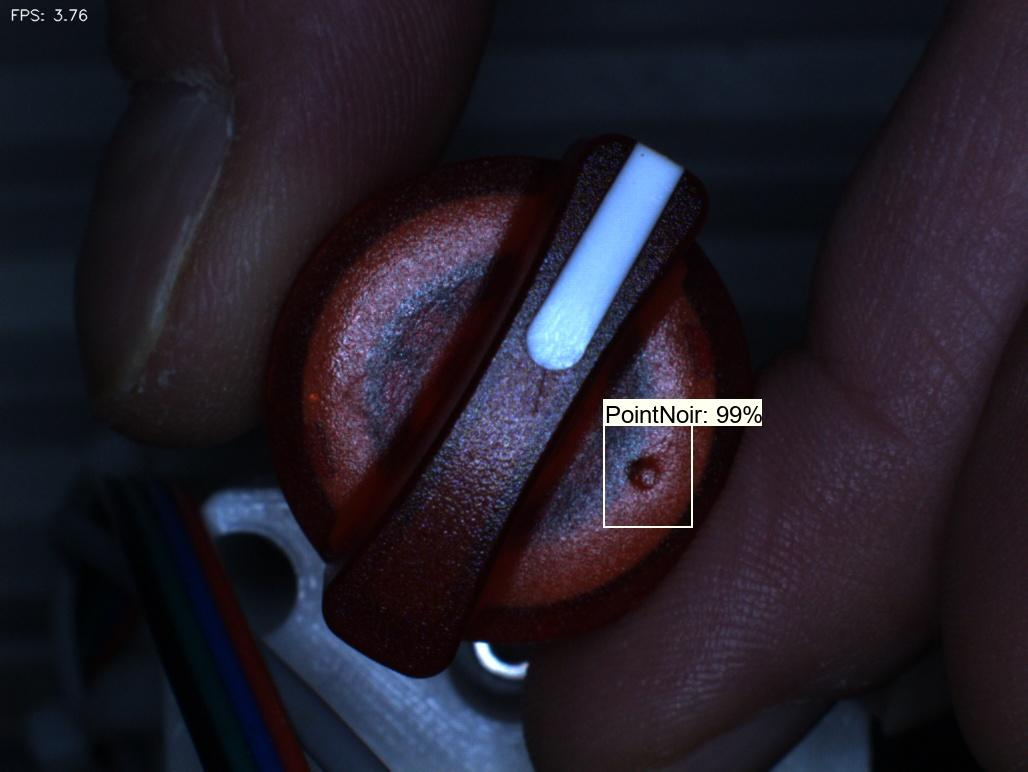Choc: (606, 430, 688, 522)
